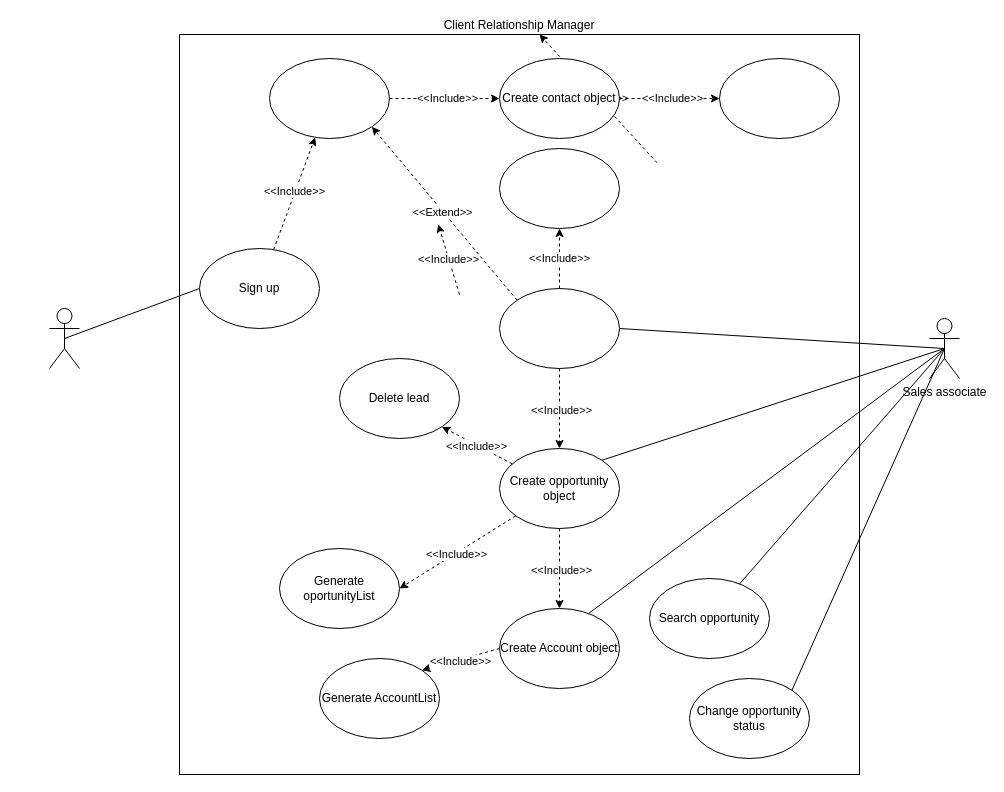
Some shapes in this 1004 by 792 pixel diagram are drawn without their labels. The centre of each missing label's shape, as x and y in pixels:
"Adds contact to opportunity" belongs at point 559,188.
"Convert leads into Opportunities" belongs at point 559,328.
"Generate contactList" belongs at point 779,98.
"Generate lead" belongs at point 329,98.
"Webinar assistant" belongs at point 64,338.
